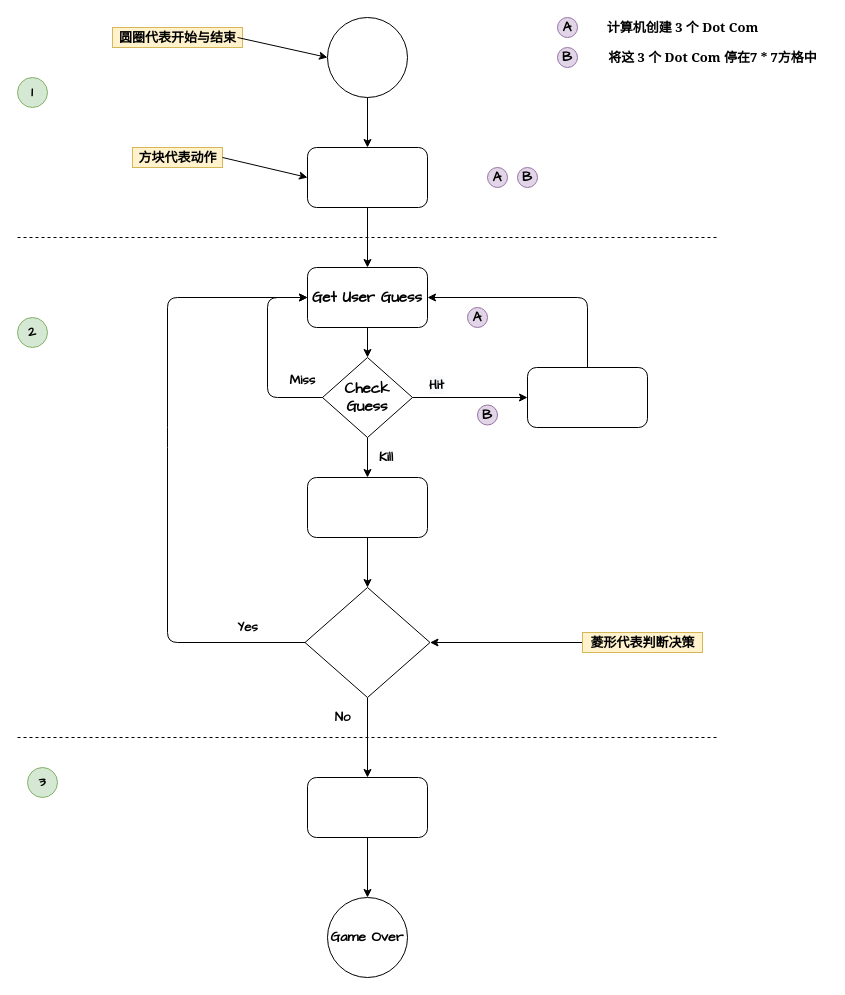
This 845x995 diagram has some shape labels left out. The centre of each missing label's shape, as x and y in pixels:
"Display use score/rating" goes at (x=367, y=807).
"Game set-up" goes at (x=367, y=177).
"Remove Dot Come" goes at (x=367, y=507).
"Remove location cell" goes at (x=587, y=397).
"Start" goes at (x=367, y=57).
"Still some Dot Come alive?" goes at (x=367, y=642).
